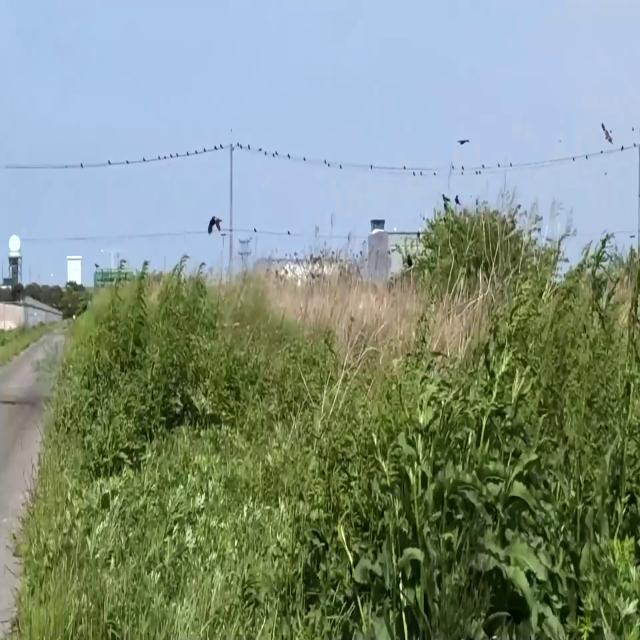bird: (207, 205, 222, 242), (600, 116, 613, 146)
